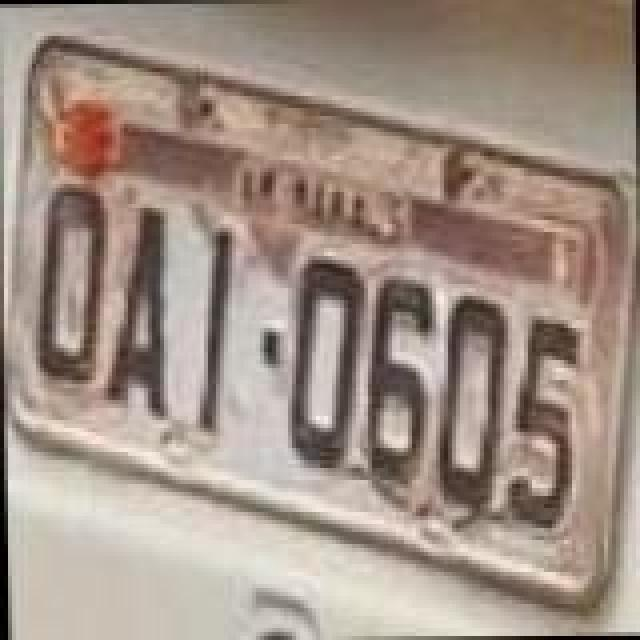1: (194, 228, 242, 432)
5: (502, 310, 586, 530)
6: (356, 276, 436, 488)
A: (104, 206, 172, 426)
O: (280, 258, 364, 470), (426, 296, 510, 508), (34, 184, 114, 384)
